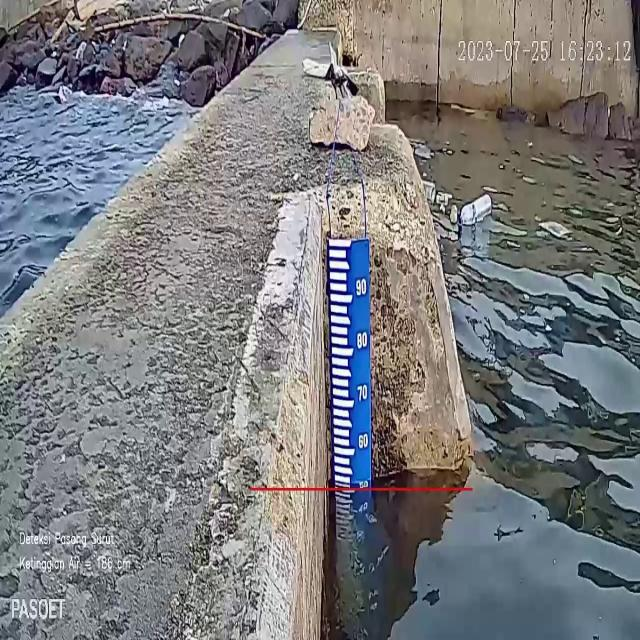60: (358, 433, 369, 449)
70: (356, 383, 368, 402)
80: (356, 331, 368, 350)
90: (356, 279, 367, 296)
staff: (329, 238, 371, 486)
